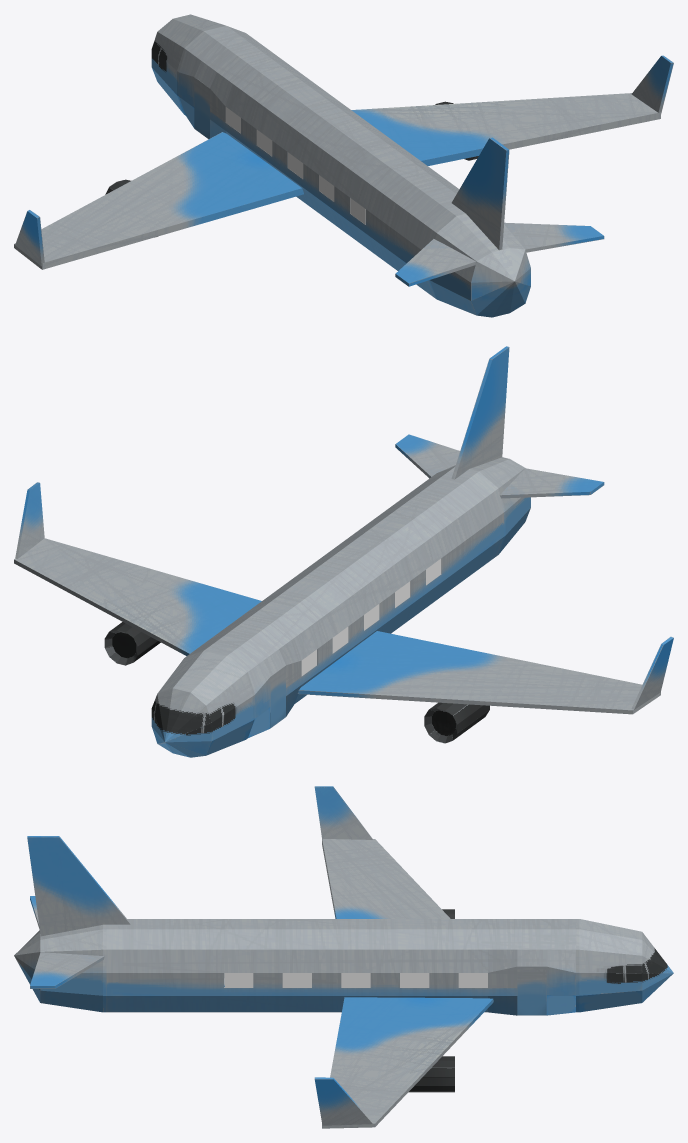
Rendered from airplane.glb.
3 views of the same model, one above another, from view 1: azimuth 30°, elevation 25°; view 2: azimuth 150°, elevation 25°; view 3: azimuth 270°, elevation 25° (orthographic). The views are drawn at different scales.
Parts seen in each view (by area): view 1: tube, left_wing, right_wing, back, tail_wing, cockpit, left_back_wing, right_back_wing, right_wing_top, left_wing_top, left_door; view 2: tube, left_wing, right_wing, cockpit, tail_wing, back, left_back_wing, right_turbine, right_back_wing, left_turbine, right_wing_top, left_wing_top (+1 smaller); view 3: tube, right_wing, left_wing, cockpit, tail_wing, back, left_wing_top, right_wing_top, right_back_wing, right_door, left_turbine.
Boxes of the visible parts, box(x1,y1,x2,y2) form: tube: box(179, 27, 463, 297); left_wing: box(14, 132, 303, 269); right_wing: box(351, 93, 660, 165); back: box(428, 212, 530, 317); tail_wing: box(451, 137, 509, 250); cockpit: box(151, 14, 246, 115); left_back_wing: box(395, 239, 476, 286); right_back_wing: box(504, 222, 604, 252); right_wing_top: box(631, 55, 673, 113); left_wing_top: box(15, 210, 44, 266); left_door: box(194, 77, 209, 138); tube: box(186, 467, 503, 737); left_wing: box(297, 631, 660, 714); right_wing: box(14, 538, 261, 655); cockpit: box(151, 649, 254, 757); tail_wing: box(451, 346, 509, 479); back: box(435, 457, 530, 555); left_back_wing: box(499, 468, 604, 498); right_turbine: box(424, 702, 489, 743); right_back_wing: box(395, 434, 459, 478); left_turbine: box(104, 622, 160, 665); right_wing_top: box(15, 482, 44, 558); left_wing_top: box(631, 636, 673, 709); tube: box(106, 919, 575, 1015); right_wing: box(322, 997, 493, 1128); left_wing: box(322, 839, 450, 918); cockpit: box(576, 919, 673, 1012); tail_wing: box(27, 836, 130, 936); back: box(14, 924, 106, 1012); left_wing_top: box(314, 786, 372, 839); right_wing_top: box(314, 1077, 372, 1125); right_back_wing: box(30, 952, 104, 988); right_door: box(517, 966, 546, 1015); left_turbine: box(408, 1056, 454, 1092).
Bounding box in the file's own units: 62.78 × 17.97 × 59.75.
Materials: 5 (3 with a texture image).
